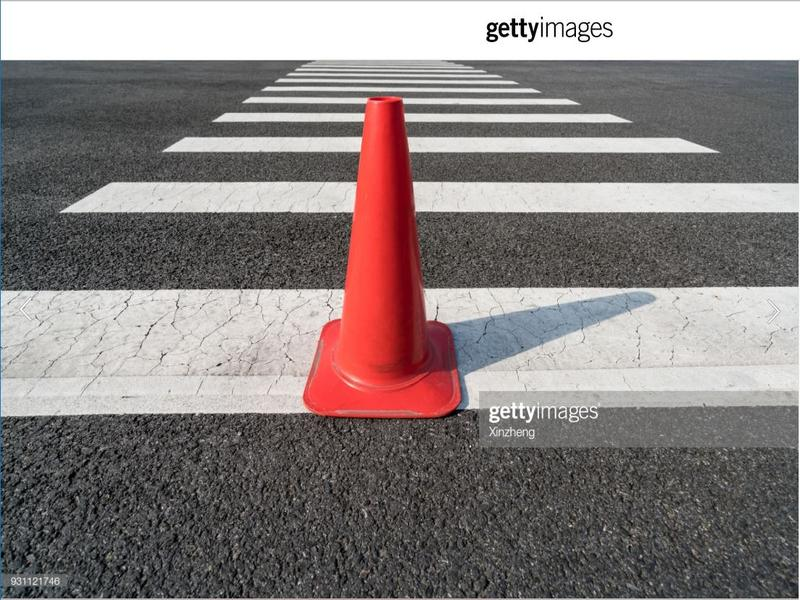Cone: (303, 97, 461, 419)
